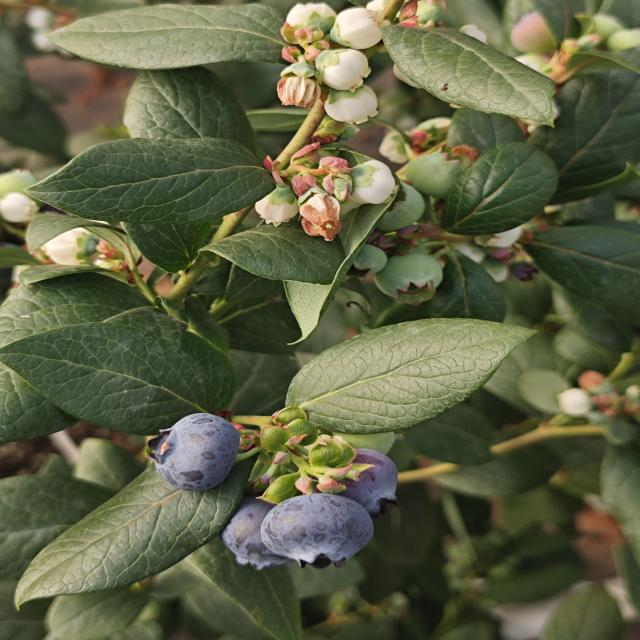ripe: (256, 491, 386, 572), (131, 410, 247, 495), (218, 496, 302, 581), (334, 453, 395, 502)
